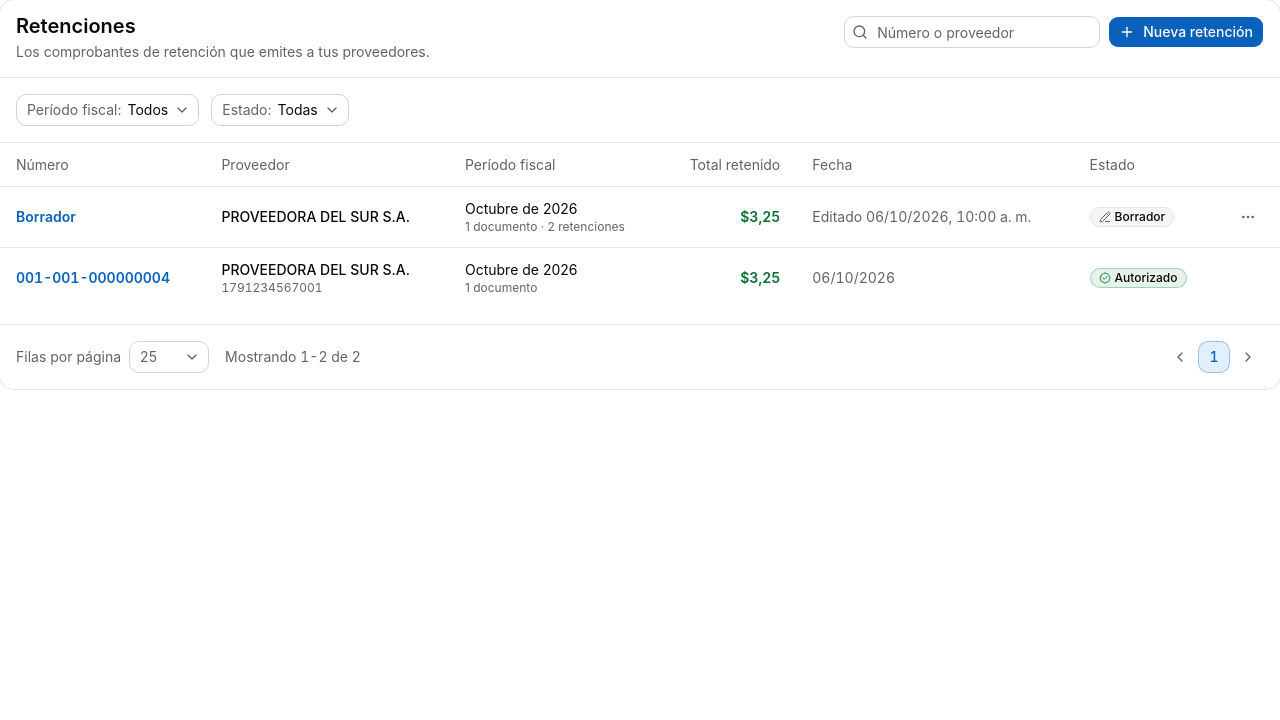
Test: pantalla Retenciones › muestra los borradores primero, con su estado, y los elimina desde su fila
The width and height of the screenshot is (1280, 720).
Expected: the link "Borrador" is shown, left=16, top=208, right=76, bottom=225
Expected: the text "PROVEEDORA DEL SUR S.A." in the row of "2 retenciones" is shown, left=221, top=208, right=410, bottom=225
Click the button named "Acciones del borrador de la retención a PROVEEDORA DEL SUR S.A." at (1248, 217), box left=1232, top=201, right=1264, bottom=233
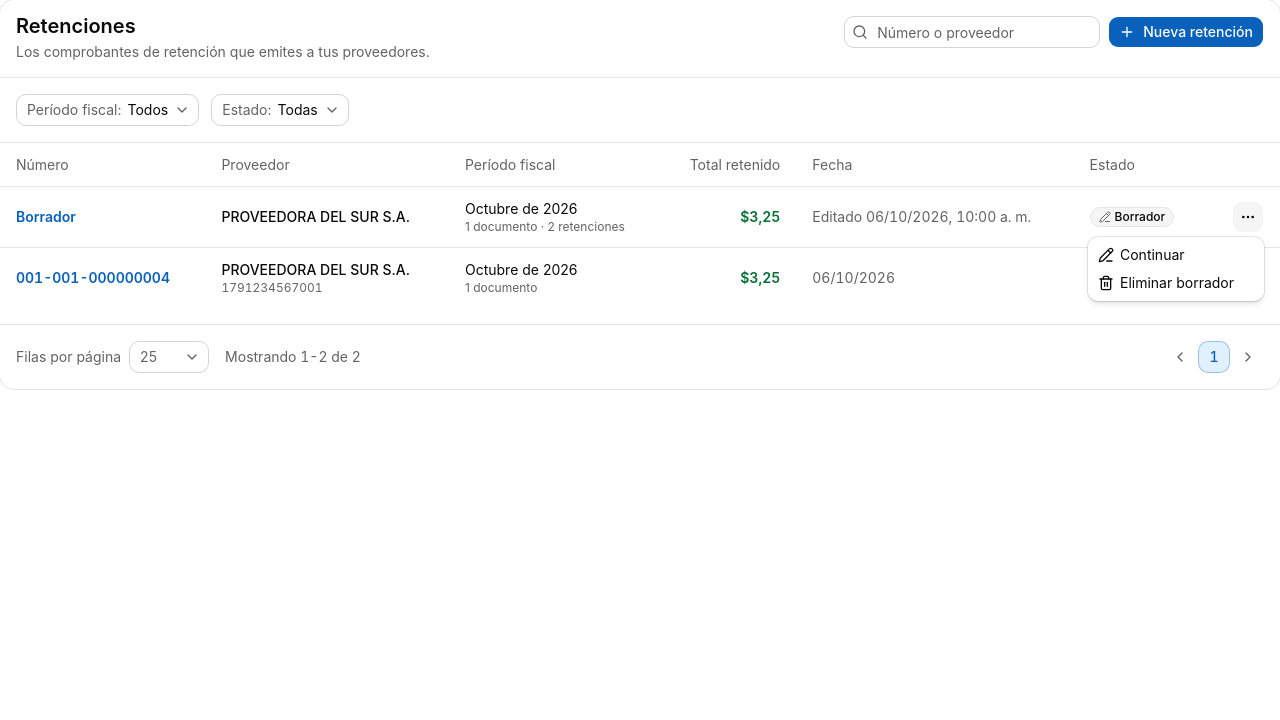
Click the menu item "Eliminar borrador" at (1166, 282), box left=1098, top=274, right=1234, bottom=291
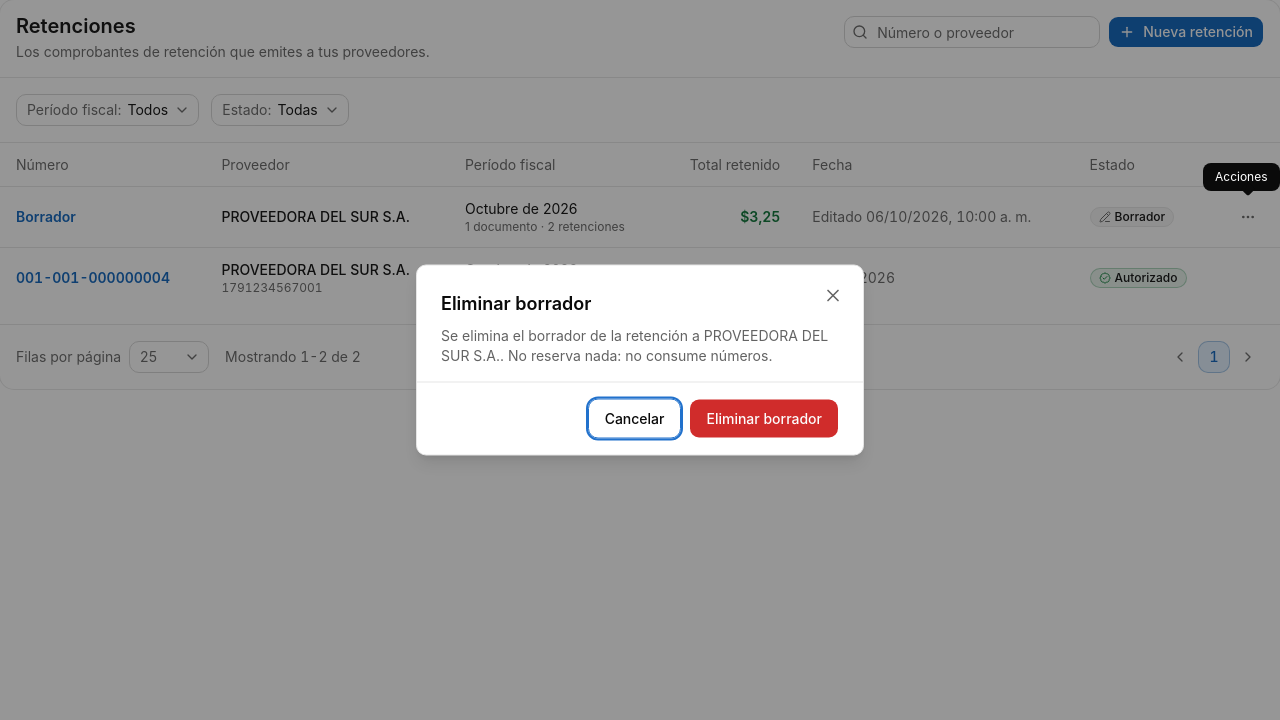
Click the button "Eliminar borrador" at (764, 418), box left=690, top=398, right=839, bottom=438
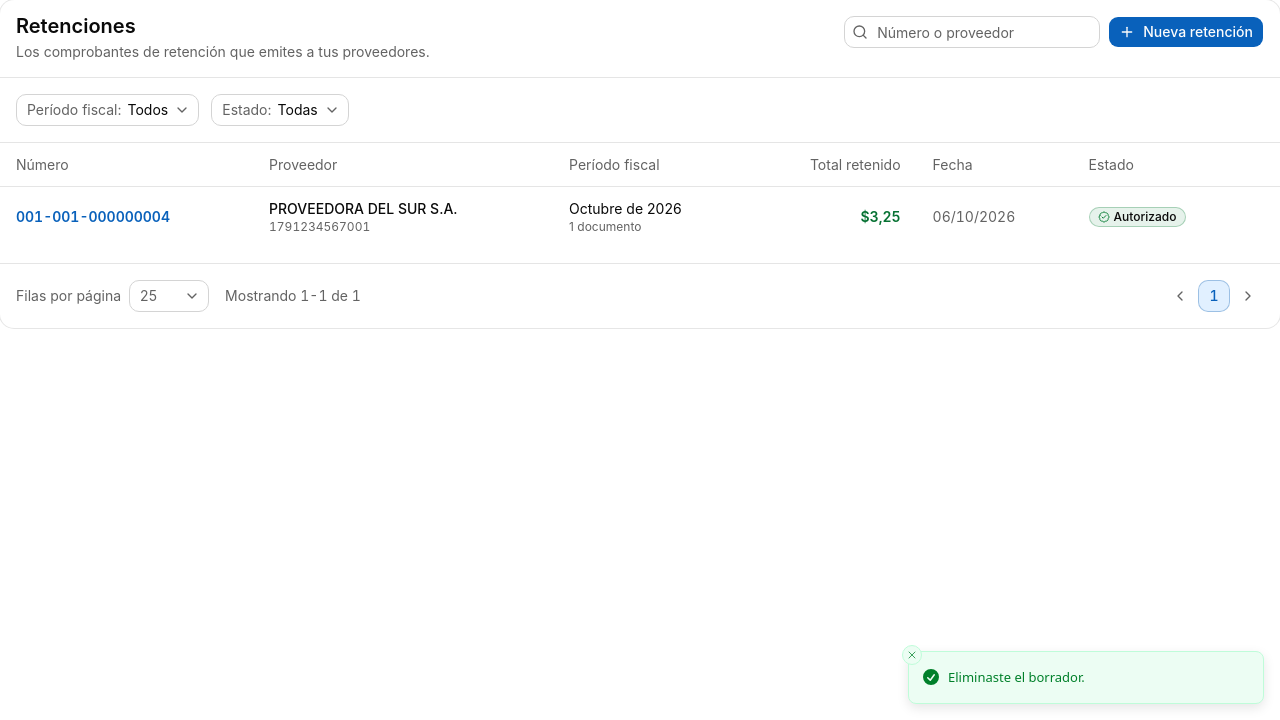
Now the text "Eliminaste el borrador." is shown, box left=948, top=668, right=1085, bottom=687
